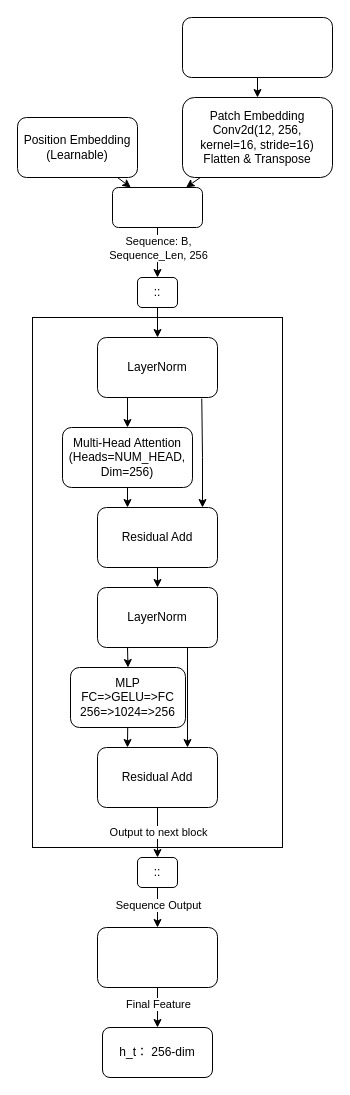
This 350x1095 diagram has some shape labels left out. Here are the shapes that lost their labels. From the top down, the centre of each, then its label:
At point (257, 47): "Input Image (B, 12, y_pixel, x_pixel * 3)".
At point (157, 207): "Add".
At point (157, 957): "CLS Token (or mean padding)".
